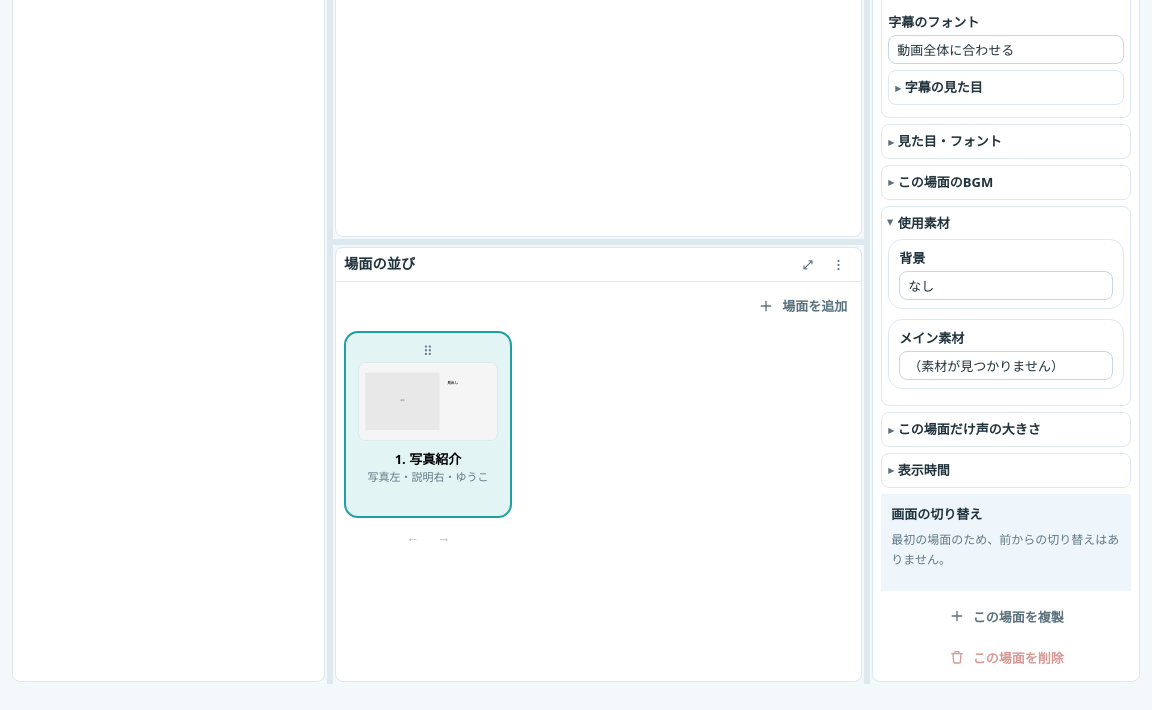
Test case: 差し込み口の素材を見て選ぶ（#1031） › 消した素材を指したままの差し込み口を「なし」と言わない
(page scrolled)
Expected: the label "メイン素材" is shown, [899, 329, 964, 347]
# 見た目のピッカーと同じ形＝一覧にも選べない候補として残る。
Click the button "（素材が見つかりません）" at [1006, 366], box [899, 351, 1113, 380]
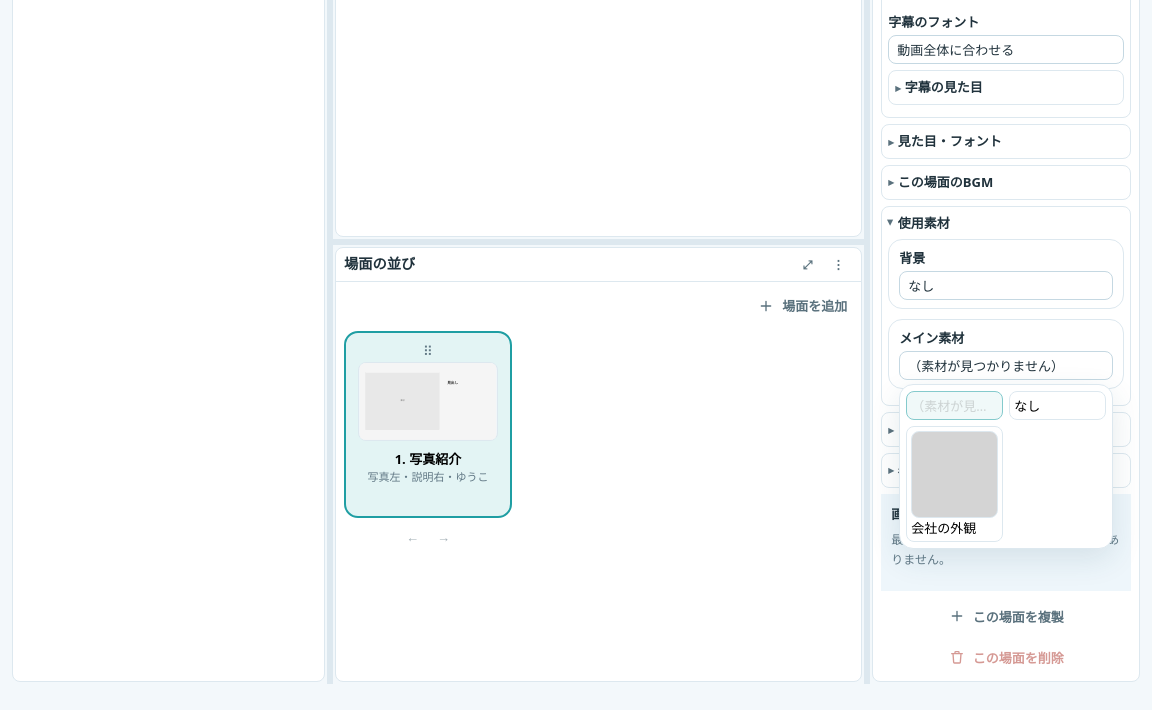
Expected: the 2nd button "（素材が見つかりません）" is disabled, [906, 391, 1003, 420]
